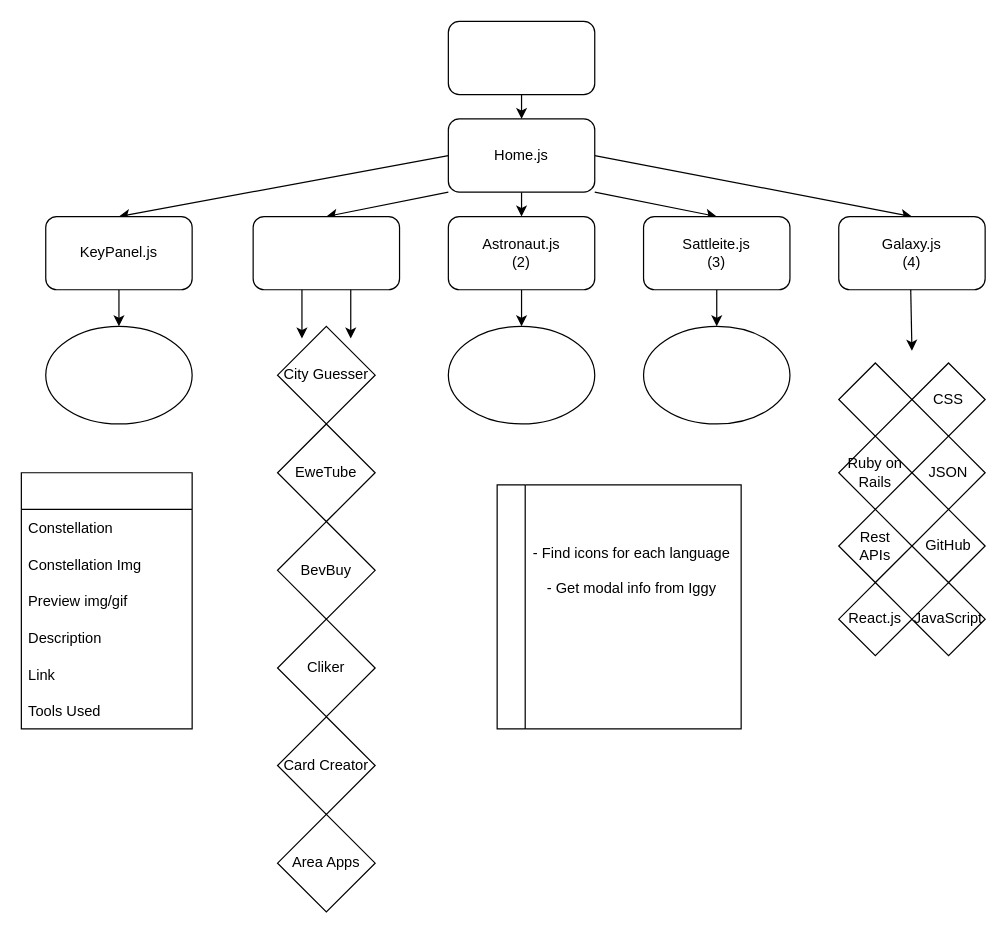
Some shapes in this 1007 by 933 pixel diagram are drawn without their labels. The shapes that lost their labels are listed below. From the top down, each one's box as (x1, y1, x2, y2) in pixels, then its label:
(447, 20, 595, 95): App.js
(252, 215, 400, 290): Constellations.js (1)
(45, 325, 192, 424): Projects (1) Bio (2) Contact & More (3) Skills (4)
(447, 325, 595, 424): A breif blurb about who I am :)
(642, 325, 790, 424): Contact info with responsive links. Resume PDF.
(838, 362, 912, 436): HTML
(20, 472, 192, 729): Project Data
(496, 484, 741, 729): Notes
